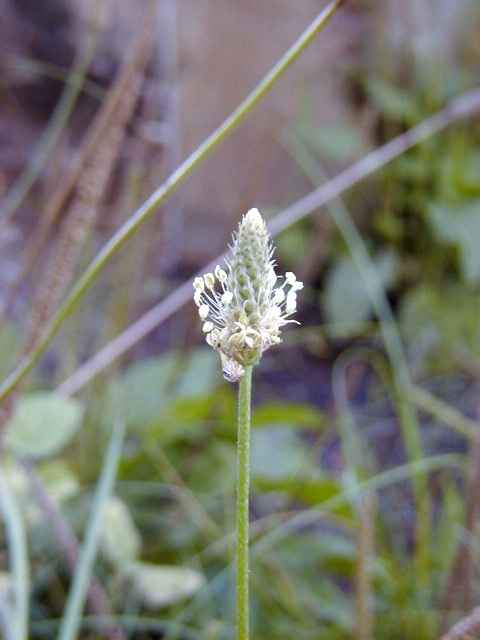buckhorn plantain: (198, 192, 309, 610)
